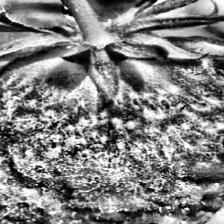Powdery Mildew Fruit: (0, 31, 224, 224)
